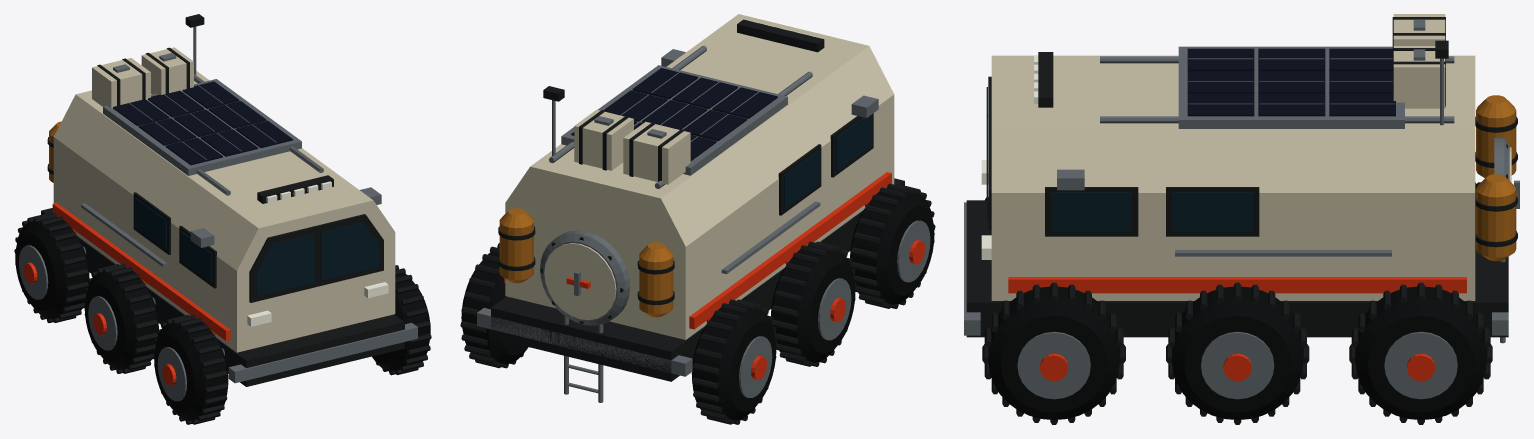
The model's file is rover.glb.
3 renders of one model, left to right at view 1: azimuth 30°, elevation 25°; view 2: azimuth 150°, elevation 25°; view 3: azimuth 270°, elevation 25°, orthographic. The views are drawn at different scales.
Visible parts, largest first — view 1: Rover — pressurized surface transport; view 2: Rover — pressurized surface transport; view 3: Rover — pressurized surface transport.
Part boxes in pixels (<box>): Rover — pressurized surface transport: <box>14,14,431,424</box>; Rover — pressurized surface transport: <box>460,14,935,424</box>; Rover — pressurized surface transport: <box>964,14,1519,424</box>.
Size of the model in its own units: 4.56 by 4.49 by 6.66.
